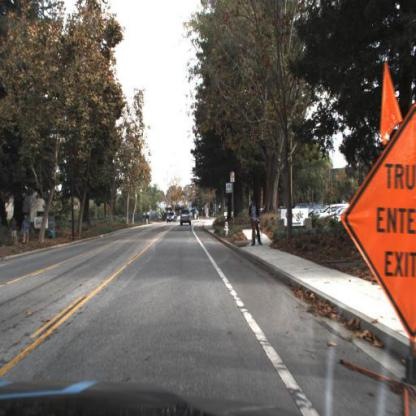biker: (248, 196, 262, 247)
car: (318, 202, 349, 220), (179, 209, 194, 229), (166, 211, 178, 224), (167, 212, 178, 225), (177, 212, 184, 222)
pedestrian: (22, 216, 32, 245), (11, 217, 20, 247)
